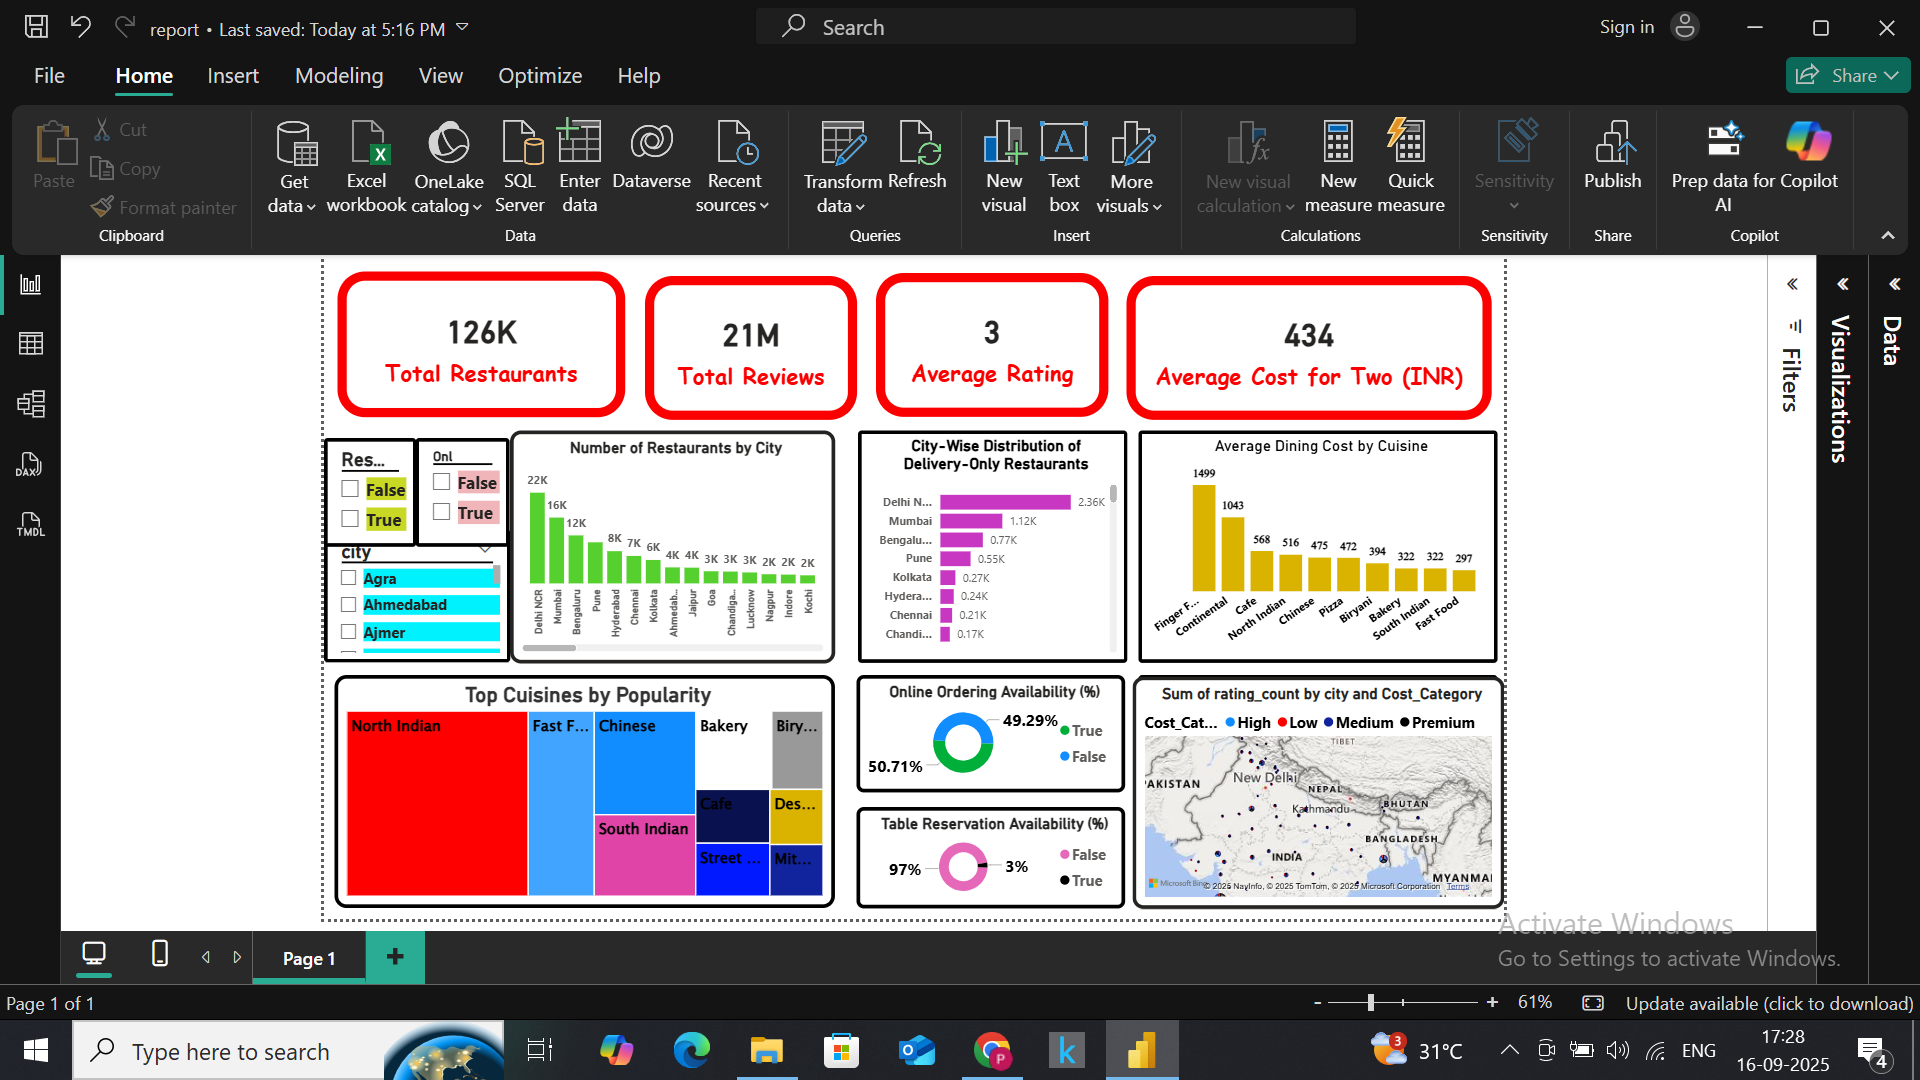

This screenshot's page, from the dashboard's own definition file:
{"tool":"powerbi","page":{"name":"Page 1","canvas":[1280,720],"ordinal":0},"visuals":[{"type":"card","fields":{"Values":["Count(india_all_restaurants_details.name)"]},"box":[14,18,312,158],"z":0},{"type":"card","fields":{"Values":["Avg(india_all_restaurants_details.rating)"]},"box":[598,20,252,156],"z":1000},{"type":"card","fields":{"Values":["Sum(india_all_restaurants_details.rating_count)"]},"box":[348,22,230,156],"z":2000},{"type":"card","fields":{"Values":["Avg(india_all_restaurants_details.cost_for_two)"]},"box":[870,22,396,156],"z":3000},{"type":"slicer","fields":{"Values":["india_all_restaurants_details.city"]},"box":[0,298,202,144],"z":4000},{"type":"columnChart","title":"Number of Restaurants by City","fields":{"Category":["india_all_restaurants_details.city"],"Y":["Count(india_all_restaurants_details.name)"]},"box":[201.6,190.2,352.5,252.5],"z":5000},{"type":"treemap","title":"Top Cuisines by Popularity","fields":{"Details":["india_all_restaurants_details.cusine"],"Values":["Count(india_all_restaurants_details.name)"]},"box":[11.9,455.9,542.4,252.5],"z":6000},{"type":"barChart","title":"City-Wise Distribution of Delivery-Only Restaurants","fields":{"Category":["india_all_restaurants_details.city"],"Y":["Count(india_all_restaurants_details.name)"]},"box":[578.3,190,291.7,251.7],"z":7000},{"type":"columnChart","title":"Average Dining Cost by Cuisine","fields":{"Category":["india_all_restaurants_details.cusine"],"Y":["Avg(india_all_restaurants_details.cost_for_two)"]},"box":[883,190,389,252],"z":8000},{"type":"donutChart","title":"Online Ordering Availability (%)","fields":{"Category":["india_all_restaurants_details.online_order"],"Y":["CountNonNull(india_all_restaurants_details.name)"]},"box":[578,455.9,291.5,127.1],"z":9000},{"type":"donutChart","title":"Table Reservation Availability (%)","fields":{"Category":["india_all_restaurants_details.table_reservation"],"Y":["CountNonNull(india_all_restaurants_details.name)"]},"box":[578,598.3,291.5,110.2],"z":10000},{"type":"scatterChart","title":"Ratings vs Review Count (Popularity vs Quality)","fields":{"X":["india_all_restaurants_details.rating"],"Size":["Sum(india_all_restaurants_details.cost_for_two)"],"Y":["Sum(india_all_restaurants_details.rating_count)"]},"box":[883,456,389,252],"z":11000},{"type":"slicer","fields":{"Values":["india_all_restaurants_details.online_order"]},"box":[100,198,102,118],"z":12000},{"type":"slicer","fields":{"Values":["india_all_restaurants_details.table_reservation"]},"box":[0,198,100,118],"z":13000},{"type":"map","fields":{"Category":["india_all_restaurants_details.city"],"Size":["Sum(india_all_restaurants_details.rating_count)"],"Series":["india_all_restaurants_details.Cost_Category"]},"box":[876.7,456.7,403.3,251.7],"z":14000}]}

Visuals, with their boxes on the page's 1280x720 design canvas (x1, y1, x2, y2). These are canvas units, not pixel positions in the 1920x1080 screenshot, which may show the page scaled, cropped or inside an application window:
card - Count(india_all_restaurants_details.name): BBox(14, 18, 326, 176)
card - Avg(india_all_restaurants_details.rating): BBox(598, 20, 850, 176)
card - Sum(india_all_restaurants_details.rating_count): BBox(348, 22, 578, 178)
card - Avg(india_all_restaurants_details.cost_for_two): BBox(870, 22, 1266, 178)
slicer - india_all_restaurants_details.city: BBox(0, 298, 202, 442)
"Number of Restaurants by City" columnChart: BBox(202, 190, 554, 443)
"Top Cuisines by Popularity" treemap: BBox(12, 456, 554, 708)
"City-Wise Distribution of Delivery-Only Restaurants" barChart: BBox(578, 190, 870, 442)
"Average Dining Cost by Cuisine" columnChart: BBox(883, 190, 1272, 442)
"Online Ordering Availability (%)" donutChart: BBox(578, 456, 870, 583)
"Table Reservation Availability (%)" donutChart: BBox(578, 598, 870, 708)
"Ratings vs Review Count (Popularity vs Quality)" scatterChart: BBox(883, 456, 1272, 708)
slicer - india_all_restaurants_details.online_order: BBox(100, 198, 202, 316)
slicer - india_all_restaurants_details.table_reservation: BBox(0, 198, 100, 316)
map - india_all_restaurants_details.city x Sum(india_all_restaurants_details.rating_count): BBox(877, 457, 1280, 708)
